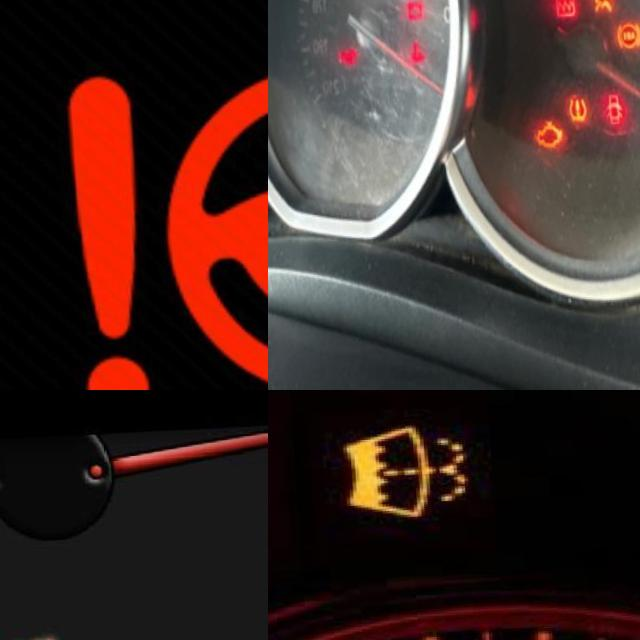Electronic Power Steering: (61, 57, 268, 390)
High Engine Coolant Temperature: (401, 43, 423, 69)
Washer Fluid: (339, 428, 464, 527)
